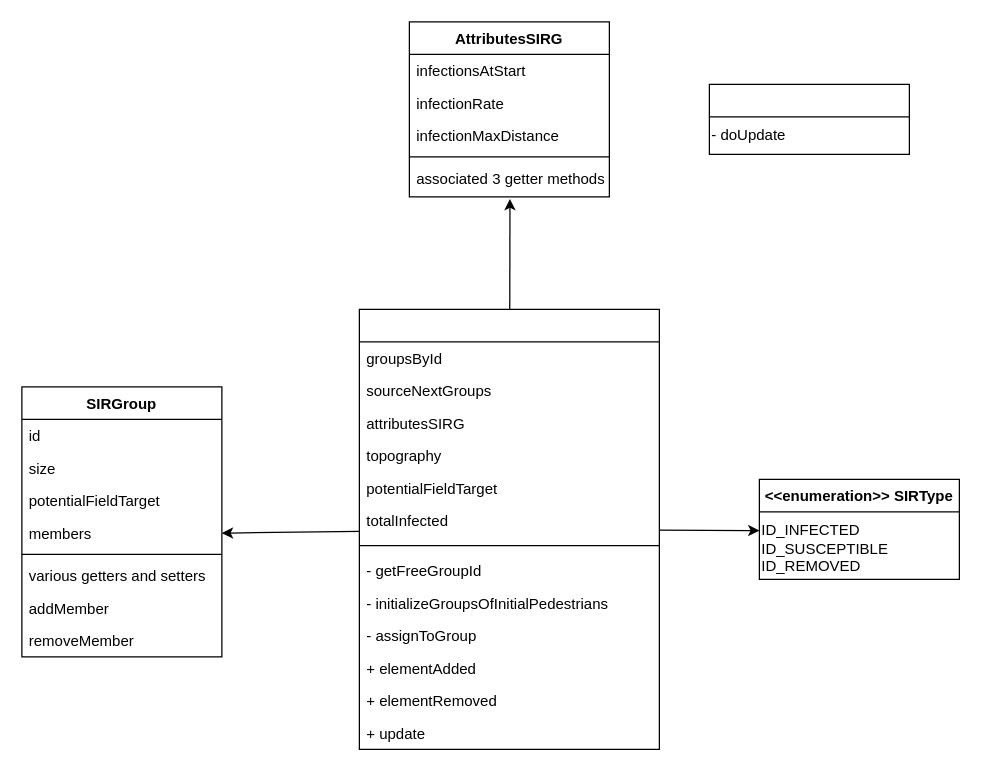
The diagram is 981 pixels wide and 775 high, and some of its shapes have lost their labels. The shapes that lost their labels are listed below. From the top down, each one's box as (x1, y1, x2, y2) in pixels, then its label:
(708, 83, 909, 154): FootStepGroupIDProcessor
(358, 308, 659, 749): SIRGroupModel
